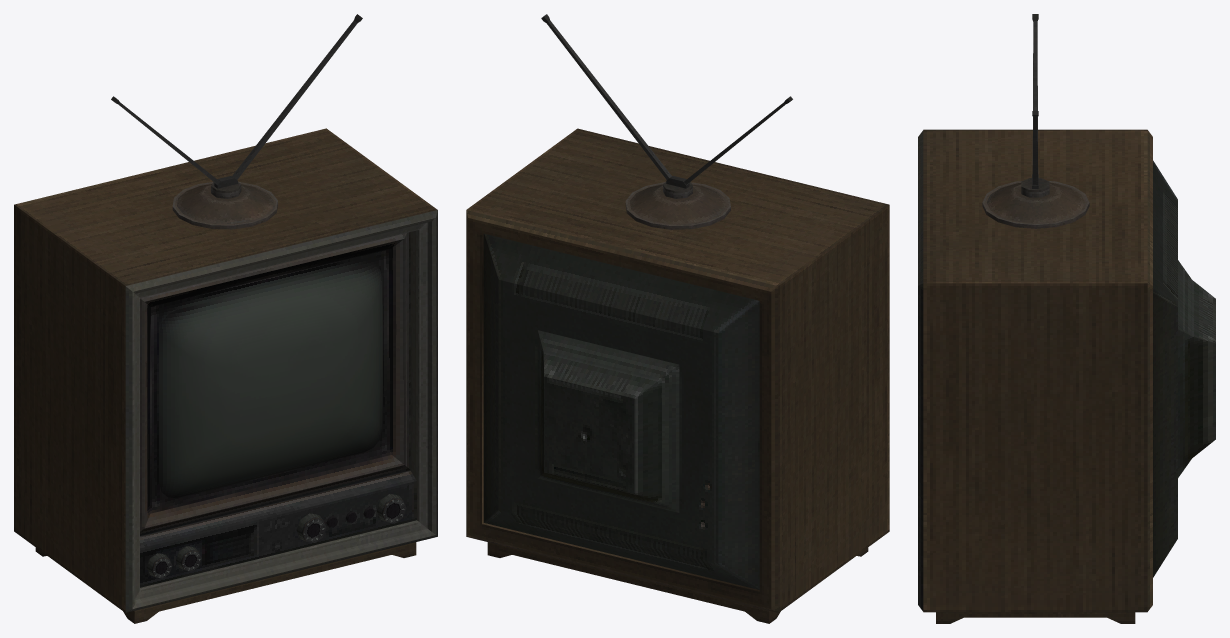
3 views of the same model, side by side, from view 1: azimuth 30°, elevation 25°; view 2: azimuth 150°, elevation 25°; view 3: azimuth 270°, elevation 25° (orthographic).
Visible parts, largest first — view 1: tv_mp_1_1; view 2: tv_mp_1_1; view 3: tv_mp_1_1.
Boxes of the visible parts, x1,y1,x2,y2 form: tv_mp_1_1: [14, 14, 437, 623]; tv_mp_1_1: [466, 14, 889, 623]; tv_mp_1_1: [918, 14, 1215, 623].
Size of the model in its own units: 0.51 by 0.7893 by 0.4183.
2 materials, 2 textured.
